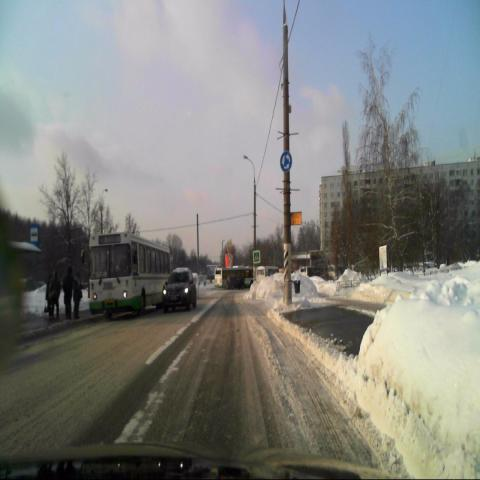4_3: (280, 149, 293, 174)
